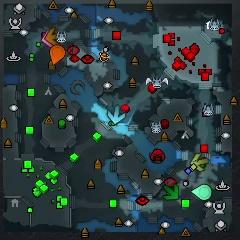p2: (192, 184, 211, 200)
p5: (50, 45, 65, 65)
x1: (42, 30, 52, 47)
x2: (190, 153, 208, 171)
x3: (107, 105, 126, 124)
x4: (163, 184, 179, 200)
x5: (45, 27, 58, 46)
